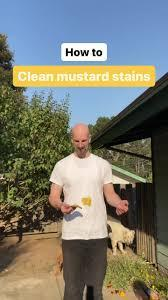lipstick: (80, 195, 93, 206)
